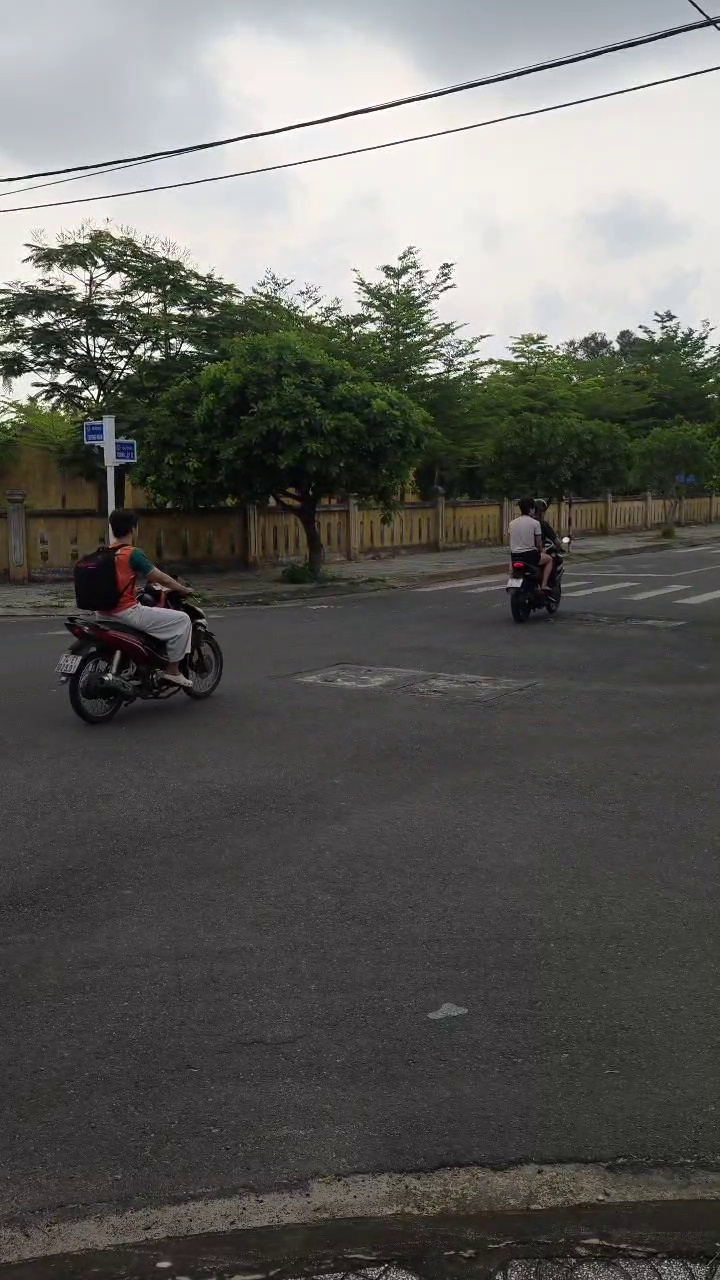no_helmet: (108, 506, 140, 556)
